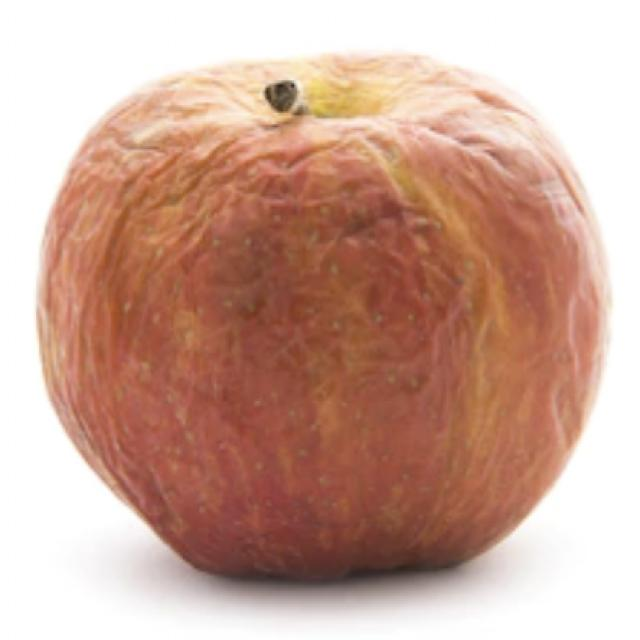rotten_apple: (36, 51, 608, 586)
